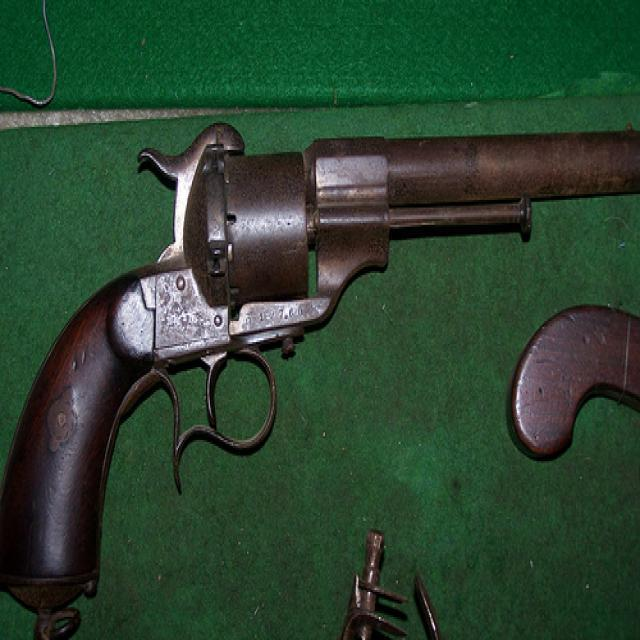weapon: (1, 117, 640, 600)
